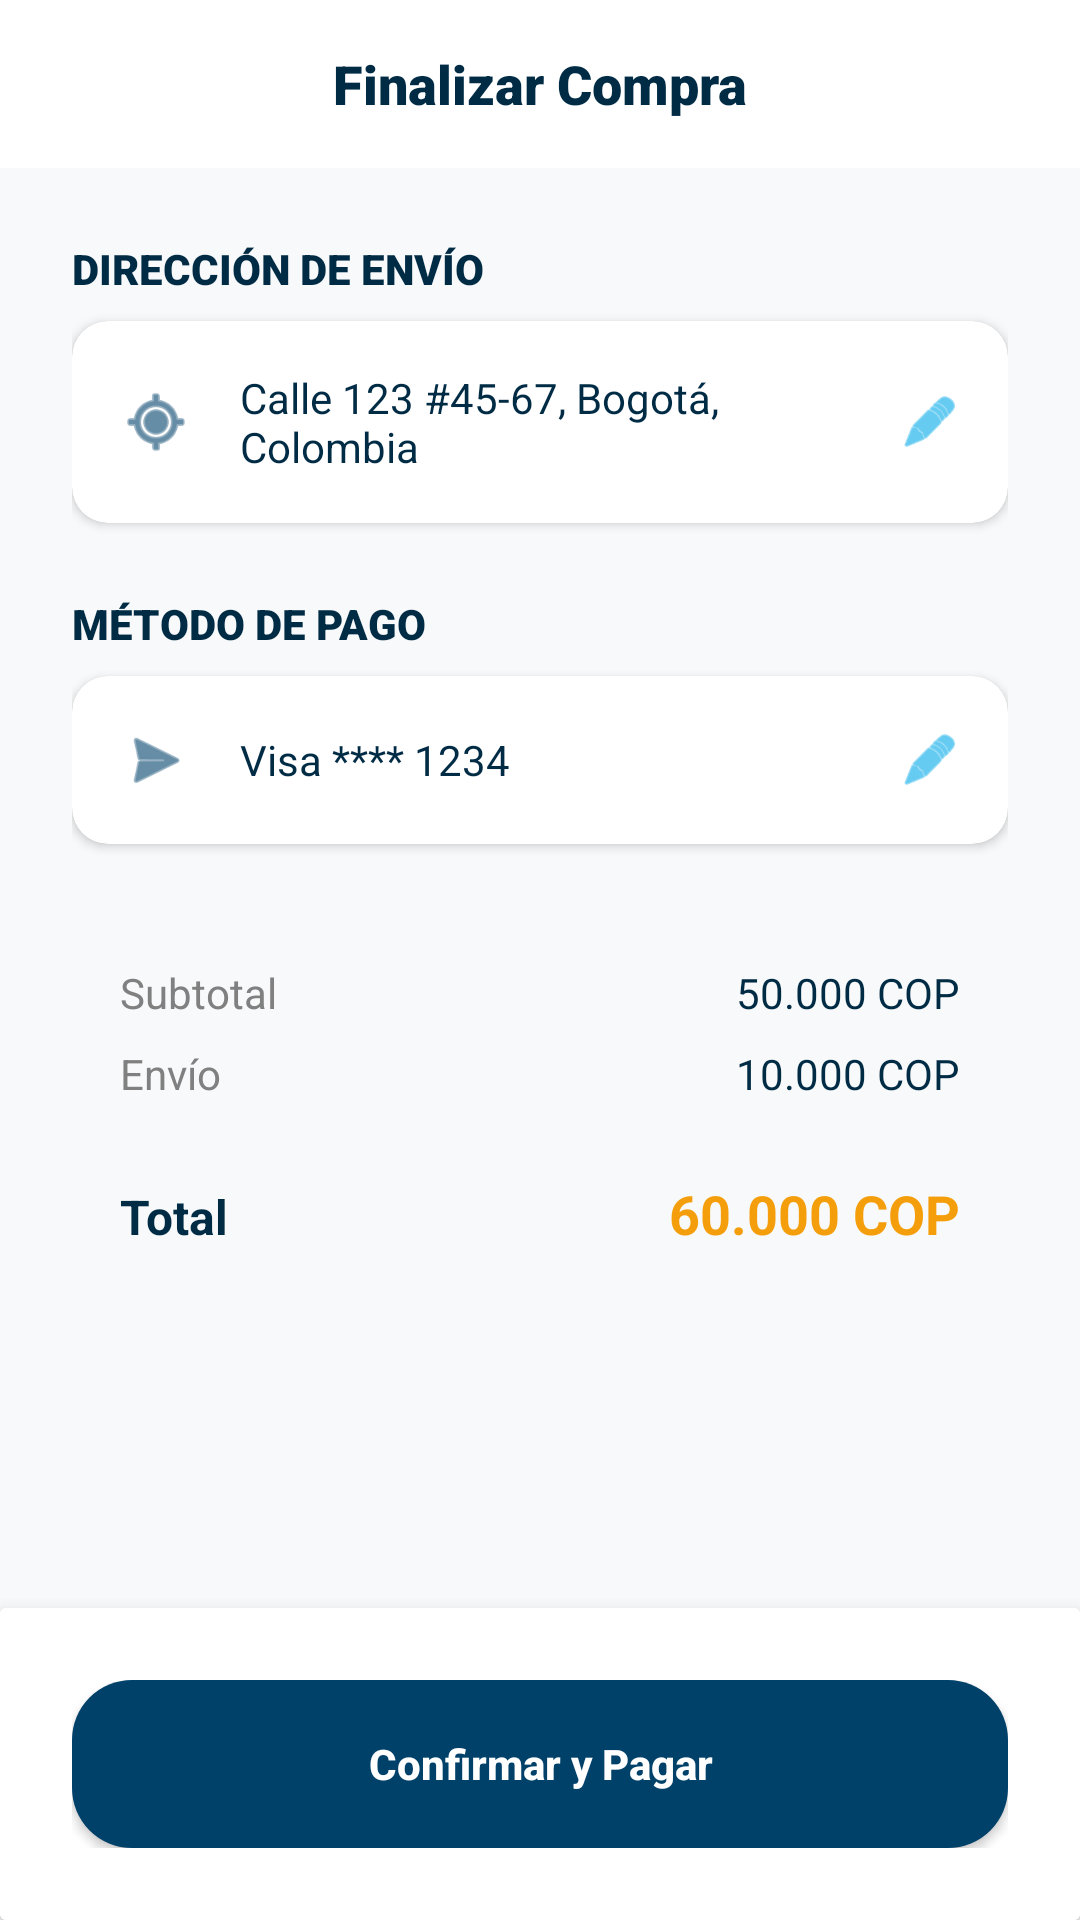

Icons on this 1080px×1920px Android screen, each with its box as (x1, y1, x2, y2):
edit: (904, 396, 955, 447), (904, 734, 955, 785)
